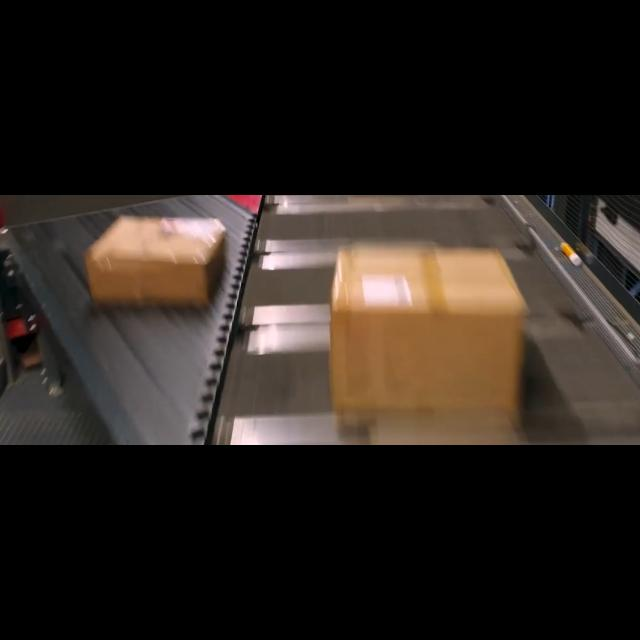box: (329, 246, 525, 419), (90, 215, 224, 307)
